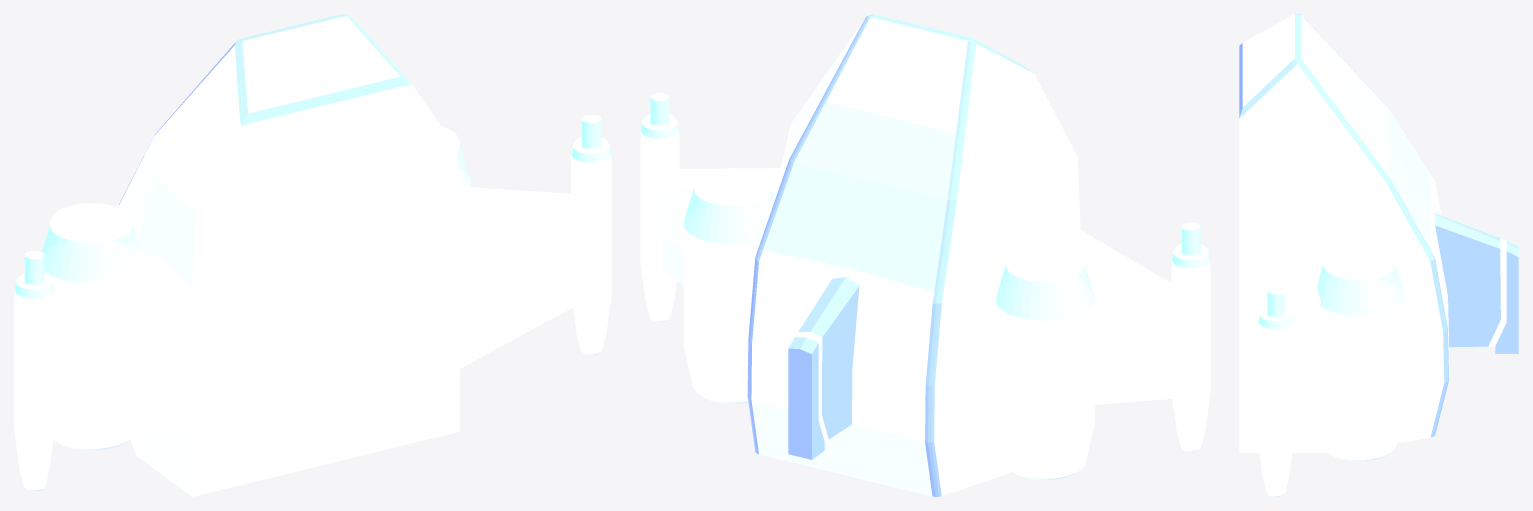
The model's file is spaceship.fbx.
3 renders of one model, left to right at view 1: azimuth 30°, elevation 25°; view 2: azimuth 150°, elevation 25°; view 3: azimuth 270°, elevation 25°, orthographic. The views are drawn at different scales.
Parts seen in each view (by area): view 1: Ship, RokettiVoimaaPitkulaine, RokettiVoimaa, RokettiVoimaaPitkulaine.001; view 2: Ship, RokettiVoimaa, RokettiVoimaa.001, RokettiVoimaaPitkulaine, RokettiVoimaaPitkulaine.001; view 3: Ship, RokettiVoimaa.001, RokettiVoimaaPitkulaine.001.
Part boxes in pixels (x1=…): Ship: x1=51, y1=14, x2=587, y2=496; RokettiVoimaaPitkulaine: x1=14, y1=250, x2=54, y2=490; RokettiVoimaa: x1=42, y1=203, x2=137, y2=450; RokettiVoimaaPitkulaine.001: x1=571, y1=114, x2=611, y2=354; Ship: x1=662, y1=14, x2=1181, y2=496; RokettiVoimaa: x1=995, y1=244, x2=1094, y2=479; RokettiVoimaa.001: x1=683, y1=168, x2=774, y2=403; RokettiVoimaaPitkulaine: x1=1171, y1=222, x2=1210, y2=451; RokettiVoimaaPitkulaine.001: x1=640, y1=93, x2=679, y2=322; Ship: x1=1239, y1=14, x2=1518, y2=452; RokettiVoimaa.001: x1=1316, y1=245, x2=1404, y2=461; RokettiVoimaaPitkulaine.001: x1=1258, y1=287, x2=1293, y2=496.
Bounding box in the file's own units: 1143 × 761 × 536.
